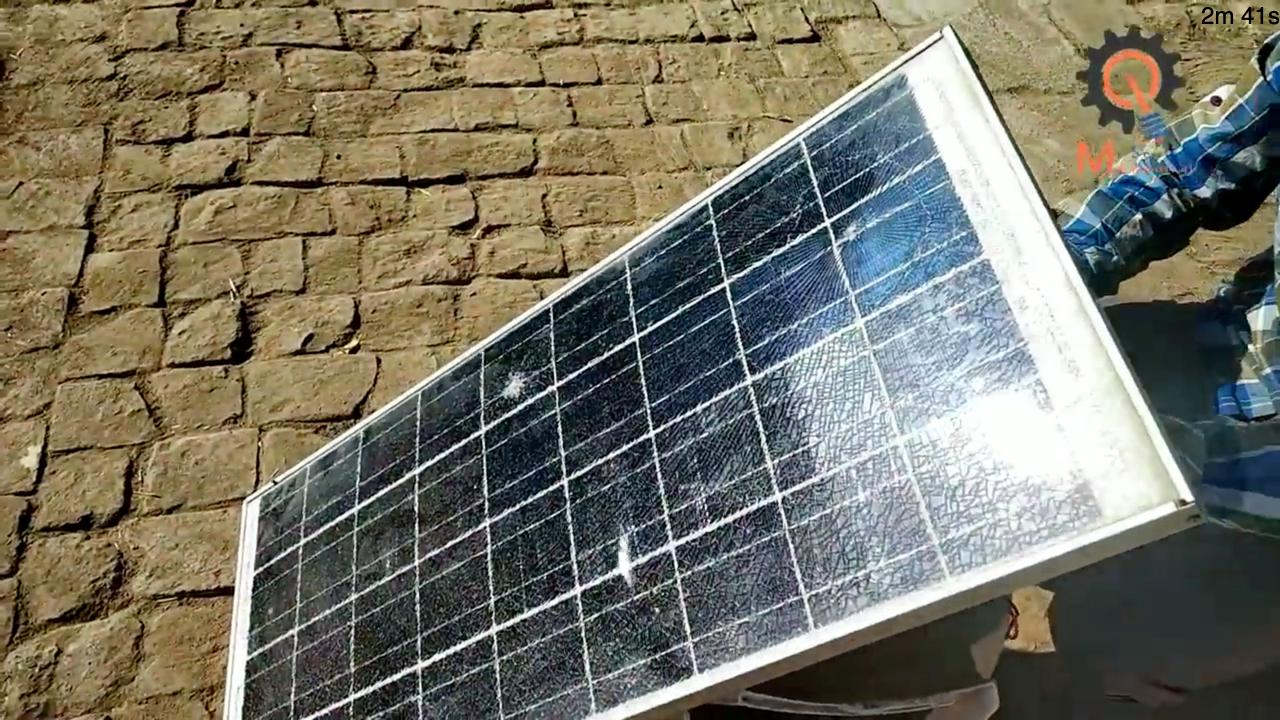Crack: (792, 276, 1002, 560), (600, 507, 649, 597), (497, 367, 531, 404)
